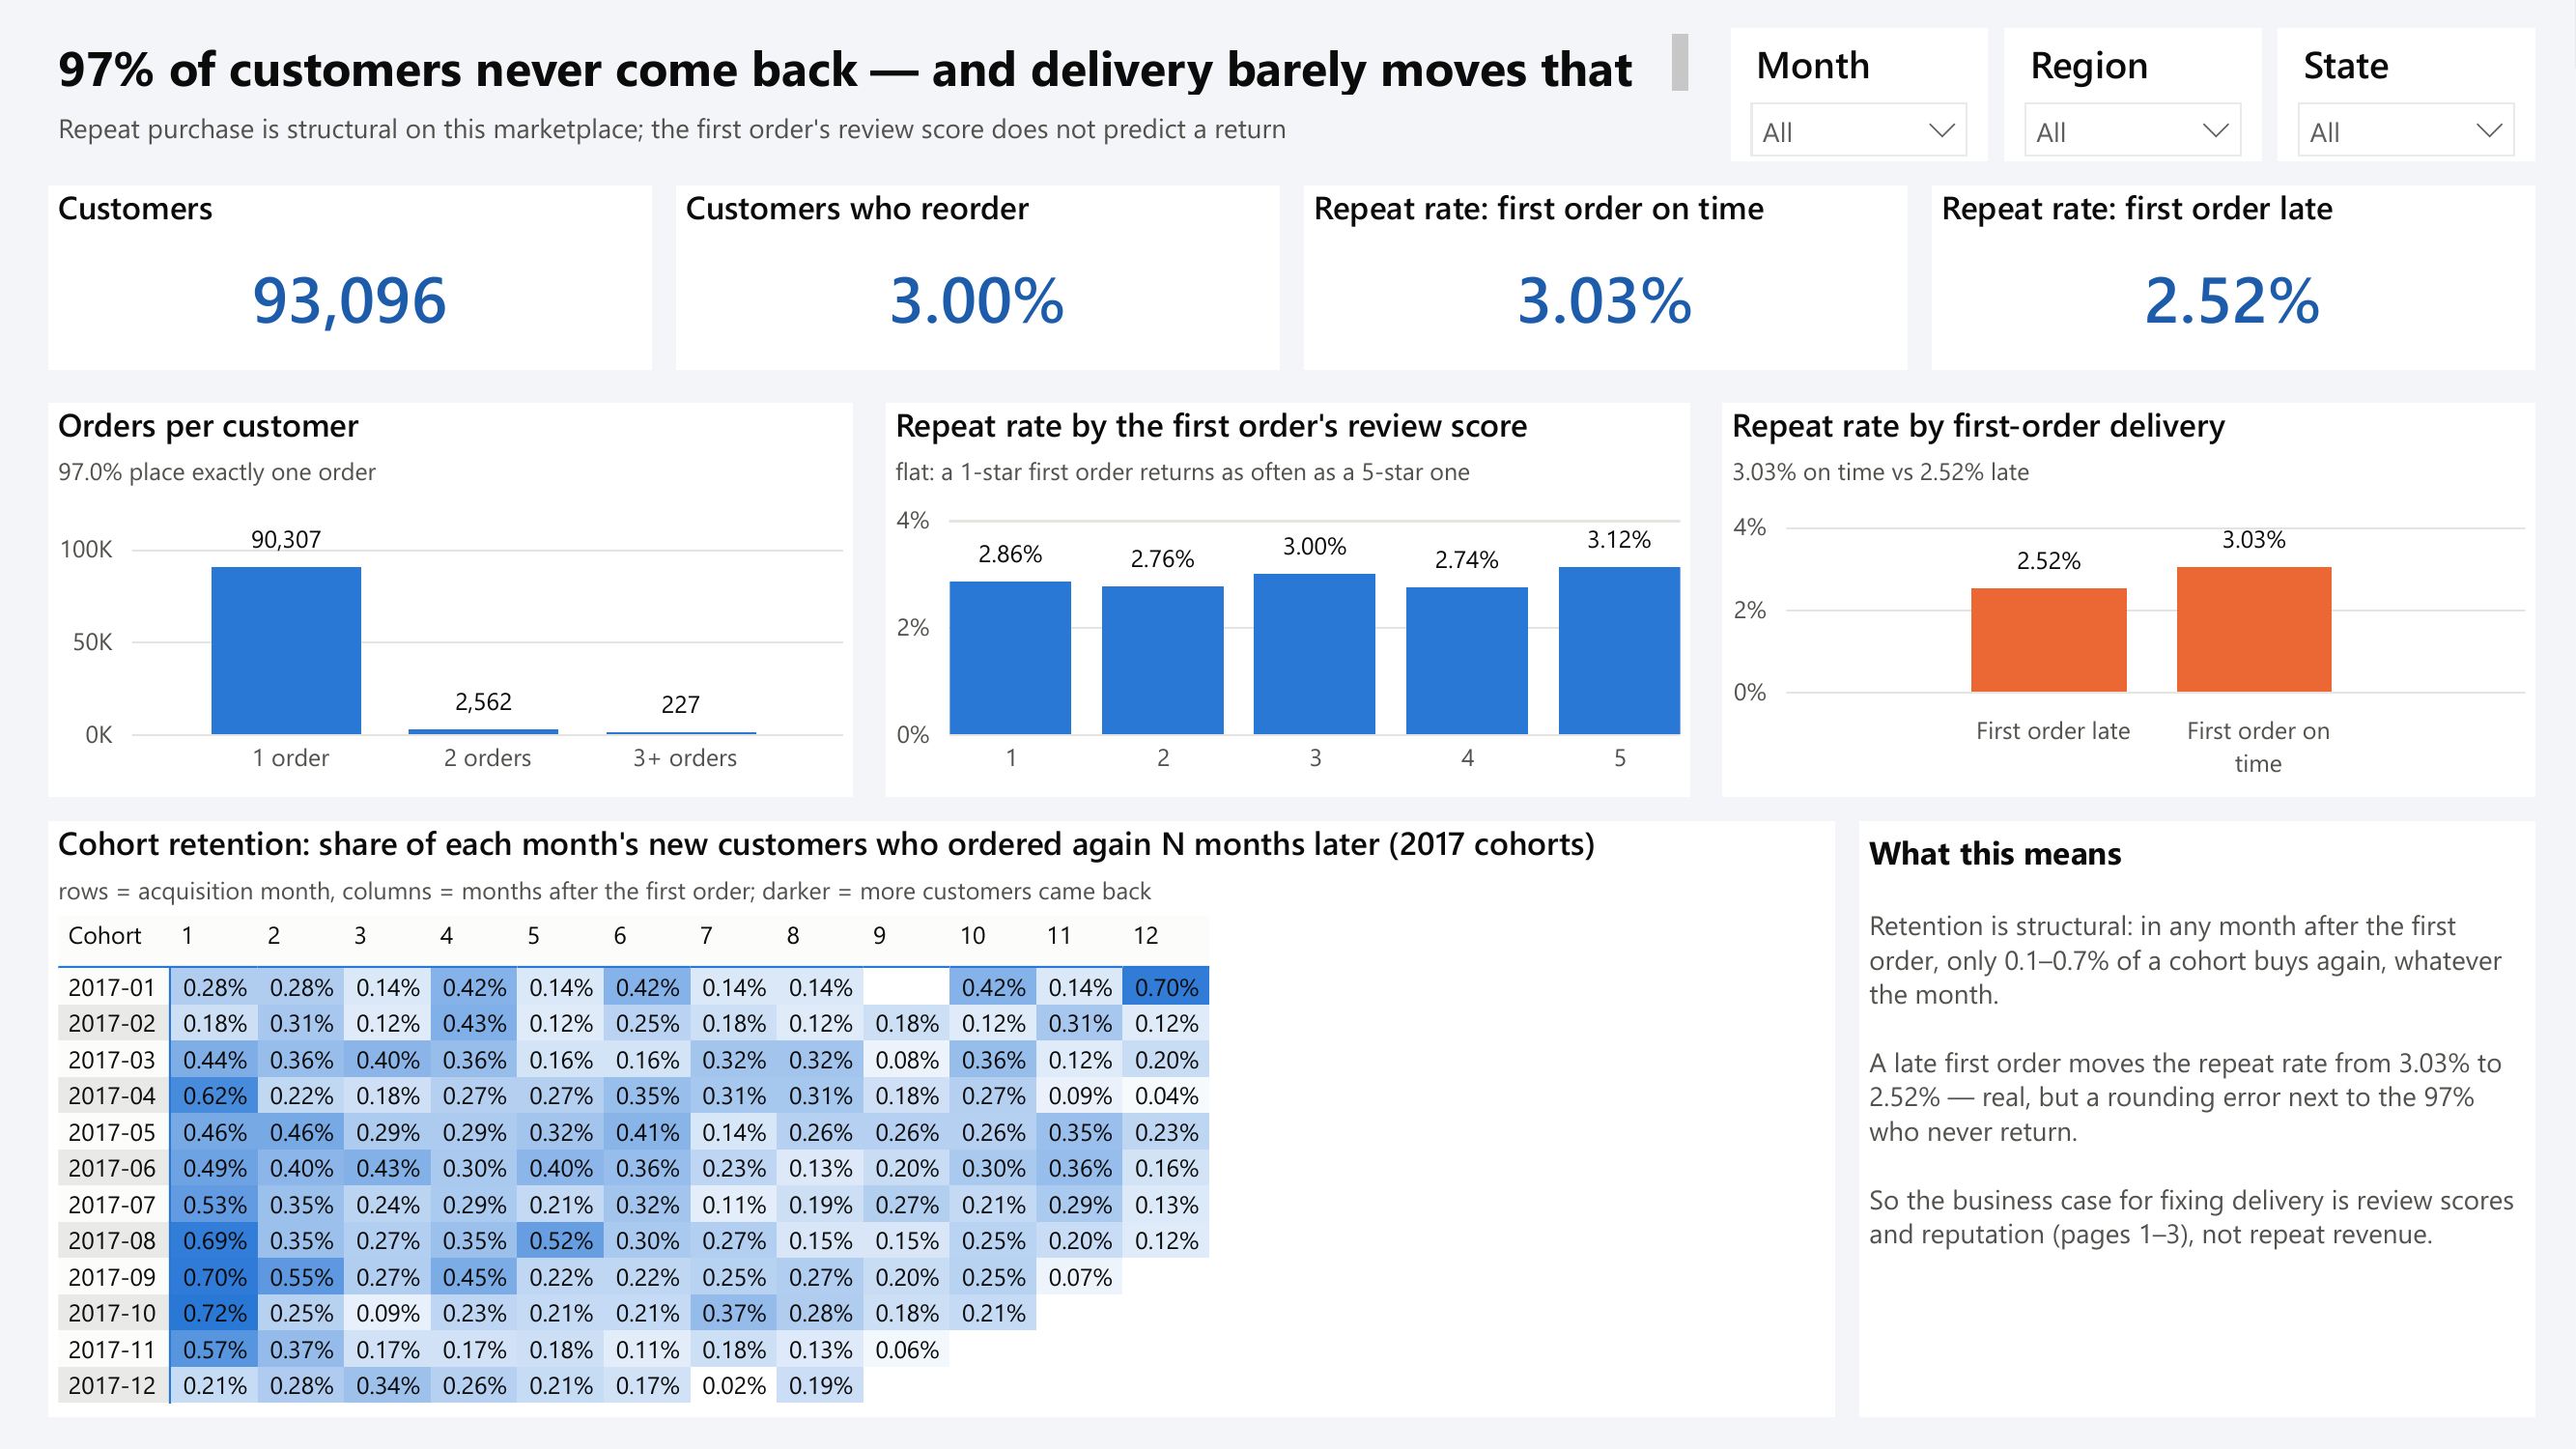

The page's visual inventory and layout, read from the dashboard file:
{"tool":"powerbi","page":{"name":"Retention","canvas":[1280,720],"ordinal":4},"visuals":[{"type":"textbox","box":[24,12,820,40],"z":1000},{"type":"textbox","box":[24,50,900,34],"z":1001},{"type":"slicer","fields":{"Values":["dim_date.year_month"]},"box":[860,14,128,66],"z":1002},{"type":"slicer","fields":{"Values":["dim_state.region"]},"box":[996,14,128,66],"z":1003},{"type":"slicer","fields":{"Values":["dim_state.state"]},"box":[1132,14,128,66],"z":1004},{"type":"card","title":"Customers","fields":{"Values":["_Measures.Customers"]},"box":[24,92,300,92],"z":1005},{"type":"card","title":"Customers who reorder","fields":{"Values":["_Measures.Repeat Customer Rate"]},"box":[336,92,300,92],"z":1006},{"type":"card","title":"Repeat rate: first order on time","fields":{"Values":["_Measures.Repeat Rate (first order on time)"]},"box":[648,92,300,92],"z":1007},{"type":"card","title":"Repeat rate: first order late","fields":{"Values":["_Measures.Repeat Rate (first order late)"]},"box":[960,92,300,92],"z":1008},{"type":"columnChart","title":"Orders per customer","fields":{"Category":["dim_customer.orders_bucket"],"Y":["_Measures.Customers (dim)"]},"box":[24,200,400,196],"z":1009},{"type":"columnChart","title":"Repeat rate by the first order''s review score","fields":{"Category":["dim_customer.first_order_score"],"Y":["_Measures.Repeat Rate (dim)"]},"box":[440,200,400,196],"z":1010},{"type":"columnChart","title":"Repeat rate by first-order delivery","fields":{"Category":["dim_customer.first_order_late_label"],"Y":["_Measures.Repeat Rate (dim)"]},"box":[856,200,404,196],"z":1011},{"type":"textbox","box":[924,408,336,296],"z":1012},{"type":"pivotTable","title":"Cohort retention: share of each month''s new customers who ordered again N months later (2017 cohorts)","fields":{"Columns":["cohort_retention.month_offset"],"Rows":["cohort_retention.cohort_month"],"Values":["_Measures.Retention %"]},"box":[24,408,888,296],"z":1013}]}

Visuals, with their boxes in screenshot pixels (x1, y1, x2, y2), scaled from the page's 1280x720 canvas onto the 2576x1449 screenshot:
textbox: 48/24/1699/104
textbox: 48/100/1859/169
slicer - dim_date.year_month: 1731/28/1989/161
slicer - dim_state.region: 2004/28/2262/161
slicer - dim_state.state: 2279/28/2535/161
"Customers" card: 48/185/652/370
"Customers who reorder" card: 676/185/1280/370
"Repeat rate: first order on time" card: 1304/185/1908/370
"Repeat rate: first order late" card: 1932/185/2535/370
"Orders per customer" columnChart: 48/403/853/797
"Repeat rate by the first order''s review score" columnChart: 886/403/1690/797
"Repeat rate by first-order delivery" columnChart: 1723/403/2535/797
textbox: 1859/821/2535/1417
"Cohort retention: share of each month''s new customers who ordered again N months later (2017 cohorts)" pivotTable: 48/821/1835/1417
